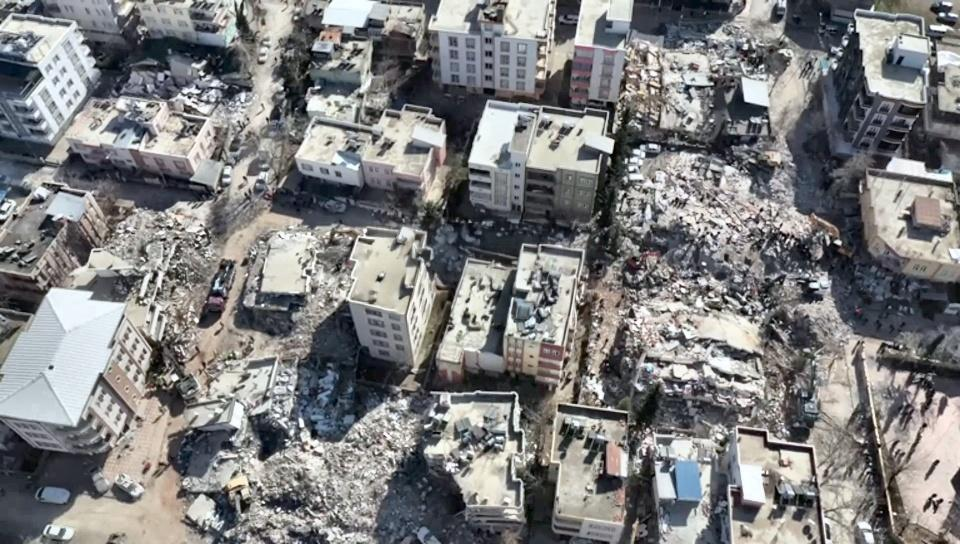kapali: (763, 101, 855, 382), (141, 328, 256, 543)
